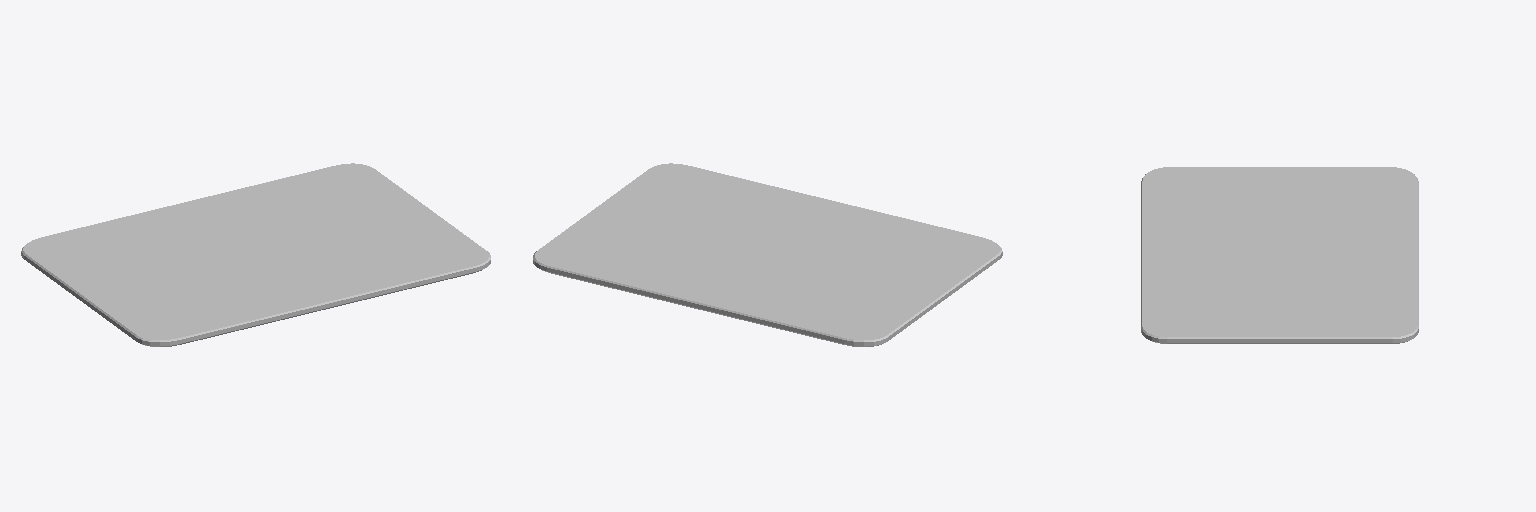
Rendered from ipad.obj.
3 views of the same model, side by side, from view 1: azimuth 30°, elevation 25°; view 2: azimuth 150°, elevation 25°; view 3: azimuth 270°, elevation 25° (orthographic).
Visible parts, largest first — view 1: Cube; view 2: Cube; view 3: Cube.
Boxes of the visible parts, x1=… form: Cube: x1=21, y1=163, x2=490, y2=346; Cube: x1=533, y1=163, x2=1002, y2=346; Cube: x1=1141, y1=167, x2=1418, y2=343.
Size of the model in its own units: 1.98 by 0.0414 by 1.36.